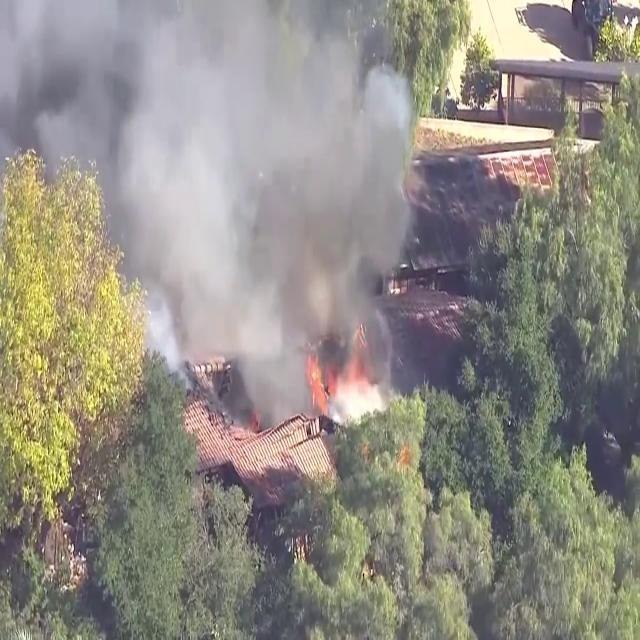Smoke: (0, 0, 429, 405)
